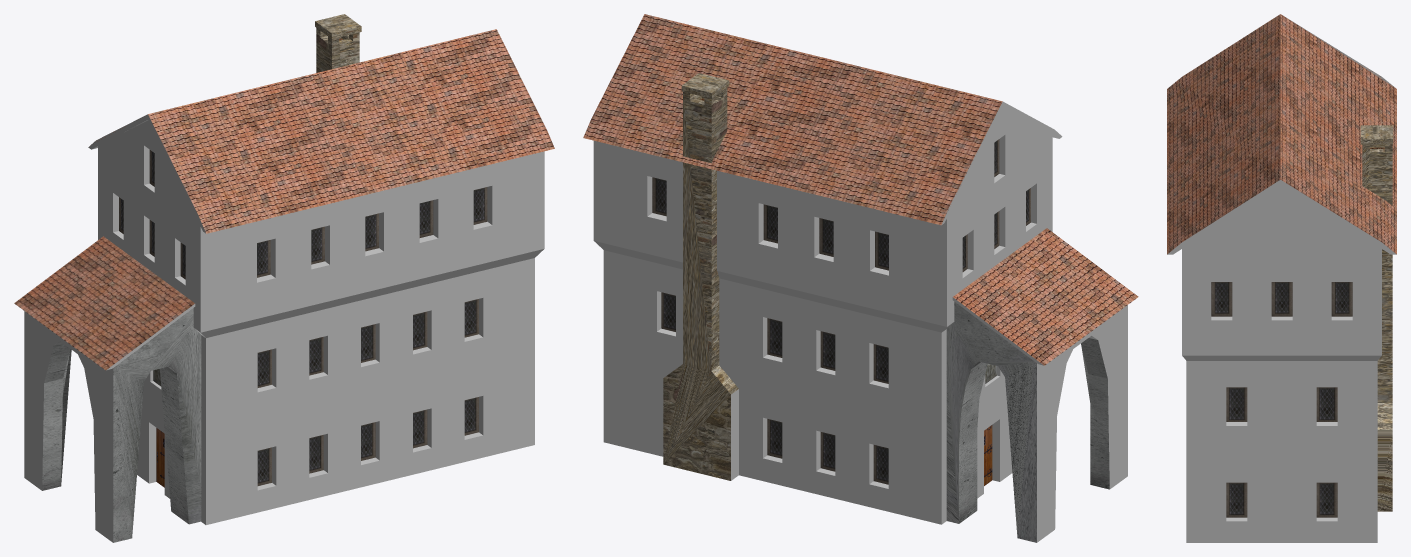
File: BuildingC.fbx
3 renders of one model, left to right at view 1: azimuth 30°, elevation 25°; view 2: azimuth 150°, elevation 25°; view 3: azimuth 270°, elevation 25°, orthographic. The views are drawn at different scales.
Visible parts, largest first — view 1: BuildingC; view 2: BuildingC; view 3: BuildingC.
Boxes of the visible parts, x1,y1,x2,y2 form: BuildingC: (14,14,554,542); BuildingC: (583,14,1138,542); BuildingC: (1167,14,1396,542).
Size of the model in its own units: 1629 by 1350 by 764.
